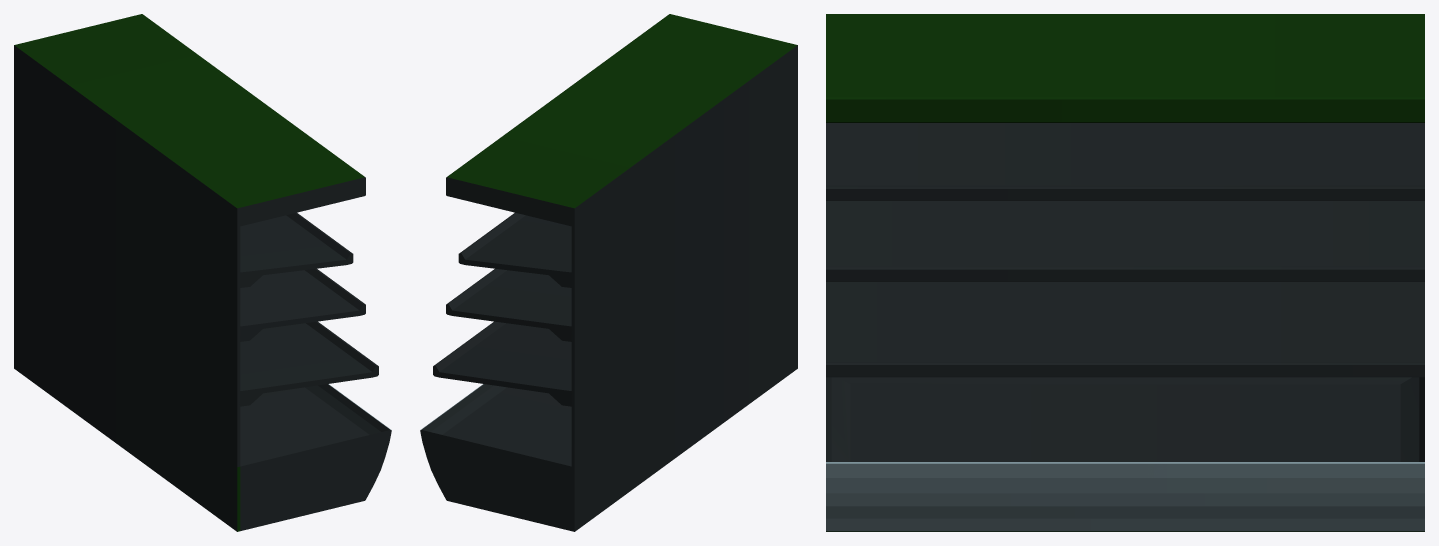
File: Produce_3row_col.glb
The picture shows the model from 3 angles, left to right: view 1: azimuth 30°, elevation 25°; view 2: azimuth 150°, elevation 25°; view 3: azimuth 270°, elevation 25°; orthographic projection. The views are drawn at different scales.
Parts seen in each view (by area): view 1: Produce_3row_col; view 2: Produce_3row_col; view 3: Produce_3row_col.
Boxes of the visible parts, bbox=[...] form: Produce_3row_col: bbox=[14, 14, 391, 531]; Produce_3row_col: bbox=[420, 14, 797, 531]; Produce_3row_col: bbox=[826, 14, 1424, 531].
Bounding box in the file's own units: 1.2 × 2.4 × 3.
1 material, 1 textured.
